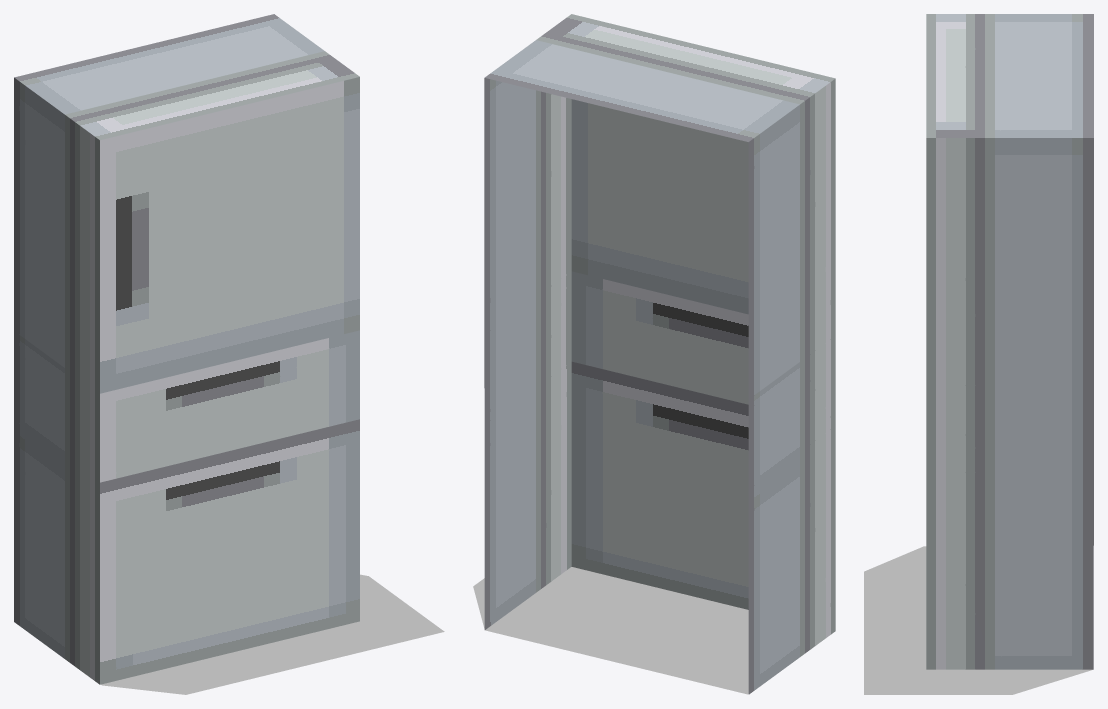
The picture shows the model from 3 angles, left to right: view 1: azimuth 30°, elevation 25°; view 2: azimuth 150°, elevation 25°; view 3: azimuth 270°, elevation 25°; orthographic projection. The views are drawn at different scales.
Parts seen in each view (by area): view 1: polygon0, polygon1; view 2: polygon0, polygon1; view 3: polygon0, polygon1.
Boxes of the visible parts, x1=… form: polygon0: x1=14, y1=14, x2=359, y2=684; polygon1: x1=101, y1=574, x2=444, y2=694; polygon0: x1=484, y1=14, x2=835, y2=694; polygon1: x1=473, y1=567, x2=748, y2=694; polygon0: x1=926, y1=14, x2=1093, y2=669; polygon1: x1=864, y1=546, x2=1092, y2=694.
Size of the model in its own units: 4.21 by 7 by 2.74.
